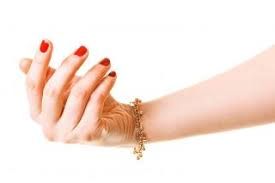hand: (15, 32, 161, 160)
